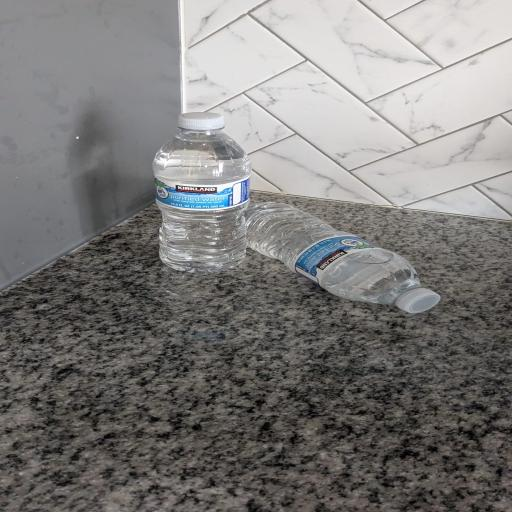waterbottle: (246, 203, 439, 313), (154, 113, 251, 272)
